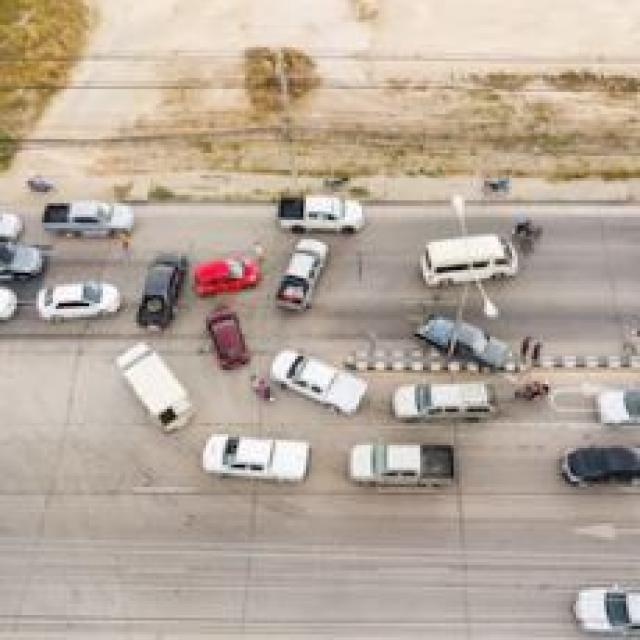traffic_incident: (120, 222, 336, 378), (415, 306, 523, 381)
